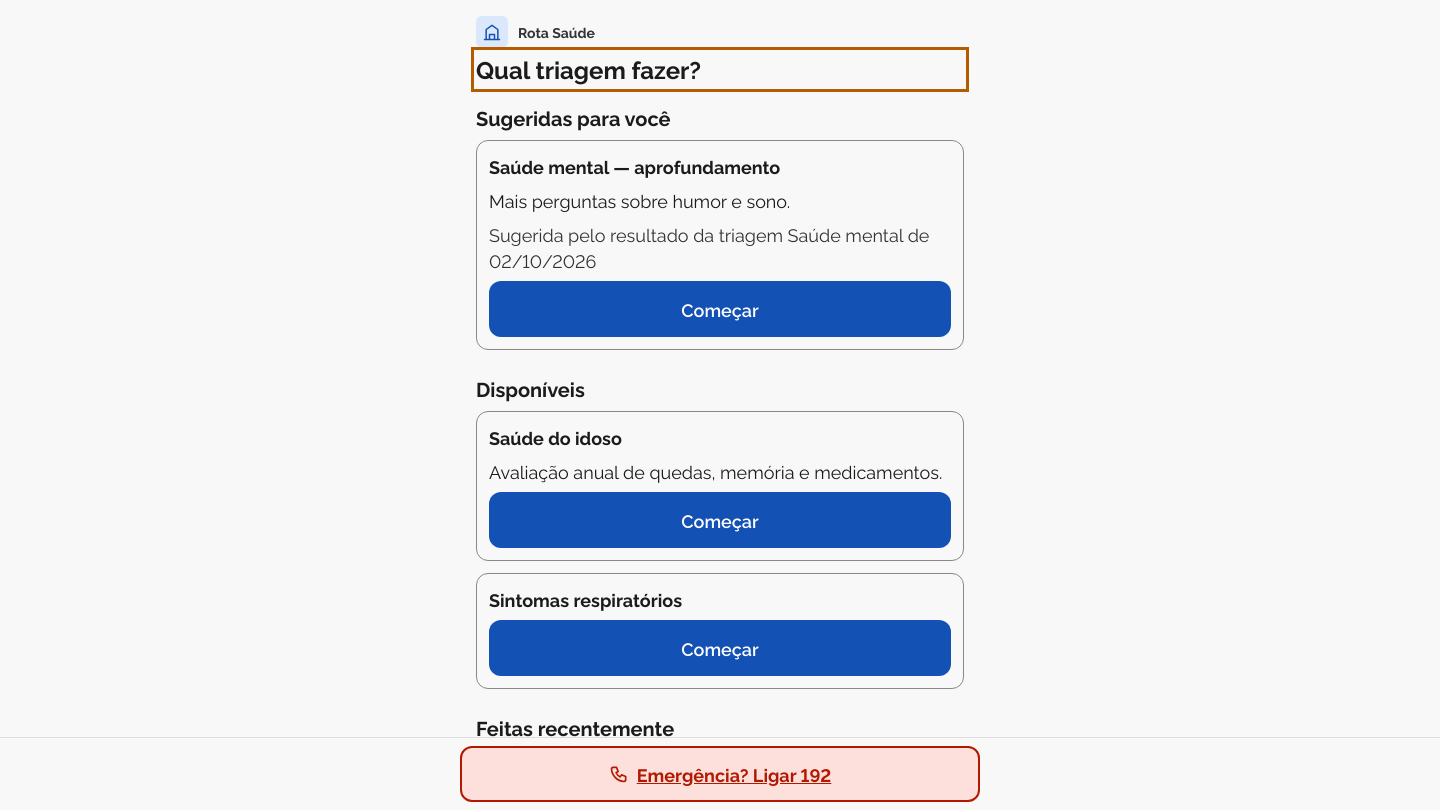
Test: CatalogStep › recusa ao começar: mostra o aviso e relê o catálogo
Click the button "Começar" below "Saúde do idoso" at {"x": 720, "y": 520}, box x1=489 y1=492 x2=951 y2=548
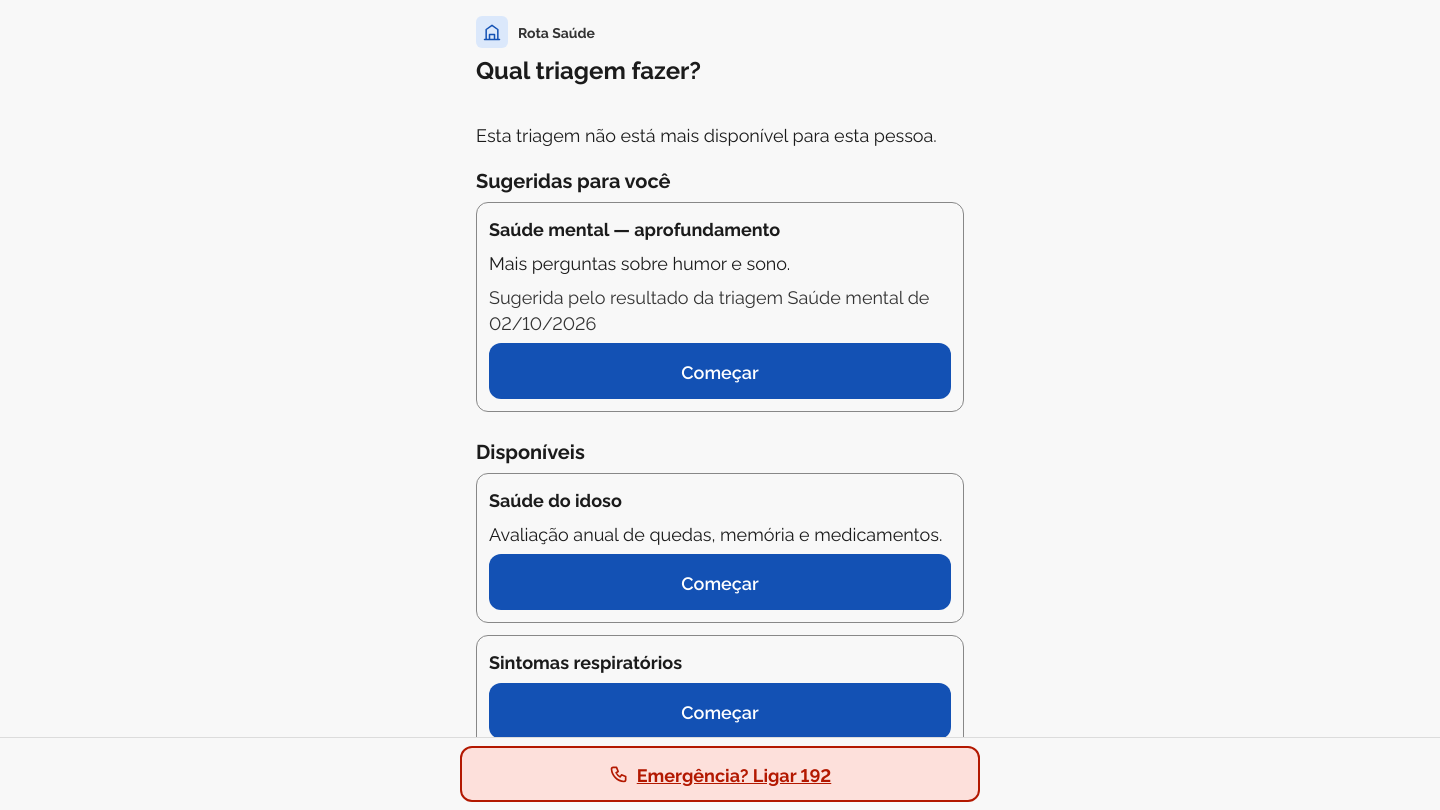
Now the text "Esta triagem não está mais disponível para esta pessoa." is shown, box x1=476 y1=121 x2=964 y2=147
